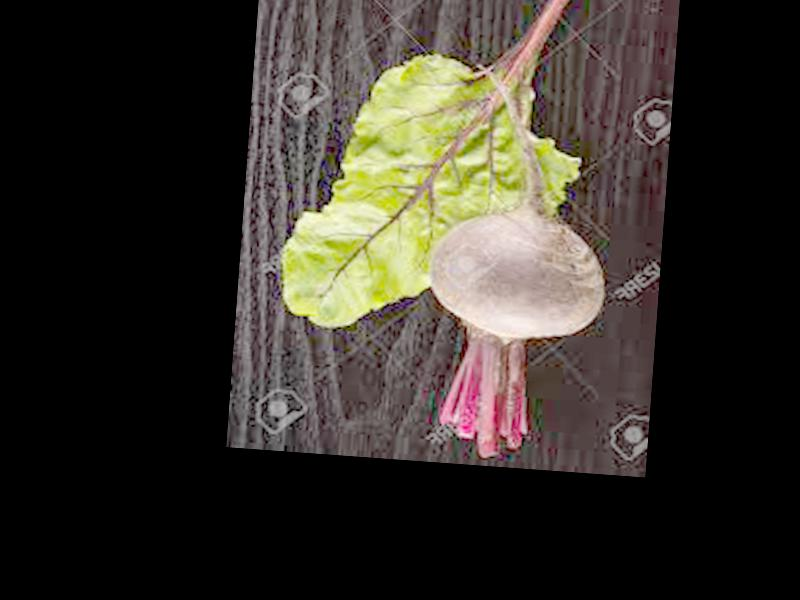Beet: (417, 63, 619, 465)
